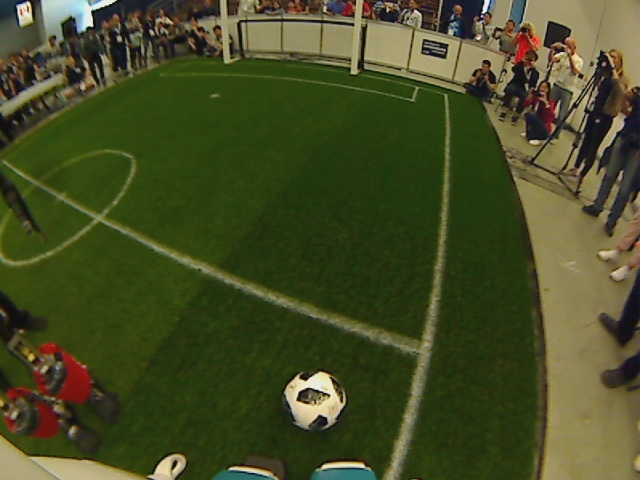ball: (280, 363, 347, 434)
